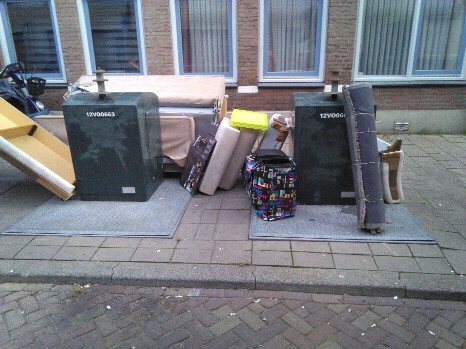Container: (291, 85, 366, 210), (72, 94, 147, 193)
Rest: (348, 67, 410, 223), (0, 90, 69, 192), (154, 72, 222, 169), (227, 113, 265, 195), (245, 156, 293, 218), (68, 63, 154, 92), (208, 110, 246, 173), (189, 134, 219, 192), (260, 106, 287, 148)
